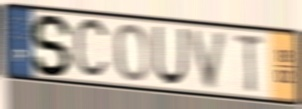C: (72, 15, 111, 83)
O: (113, 22, 150, 84)
S: (30, 12, 76, 79)
T: (234, 32, 265, 95)
U: (152, 24, 189, 87)
V: (188, 28, 231, 93)
